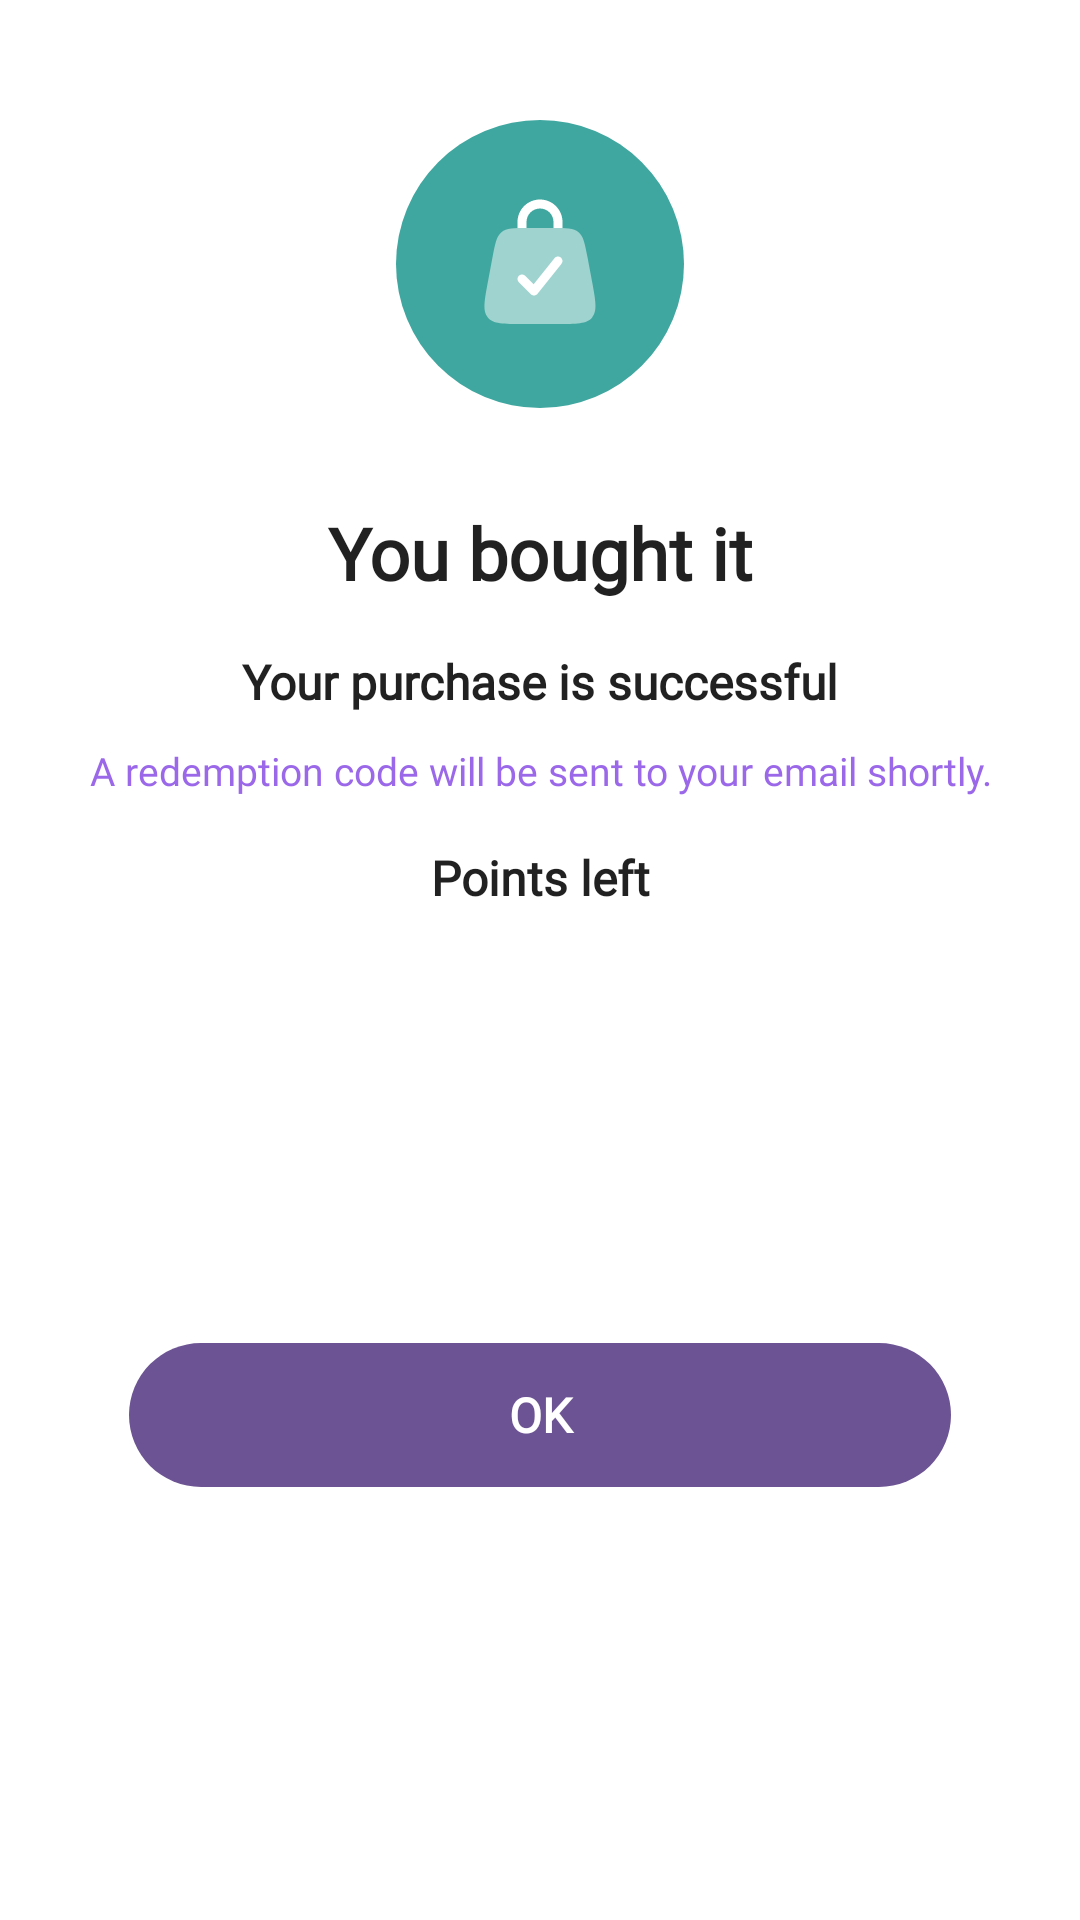

Point at icon controls on the screen. Image size 1080x1920, points as [x,y].
buy successful: [540,264]
